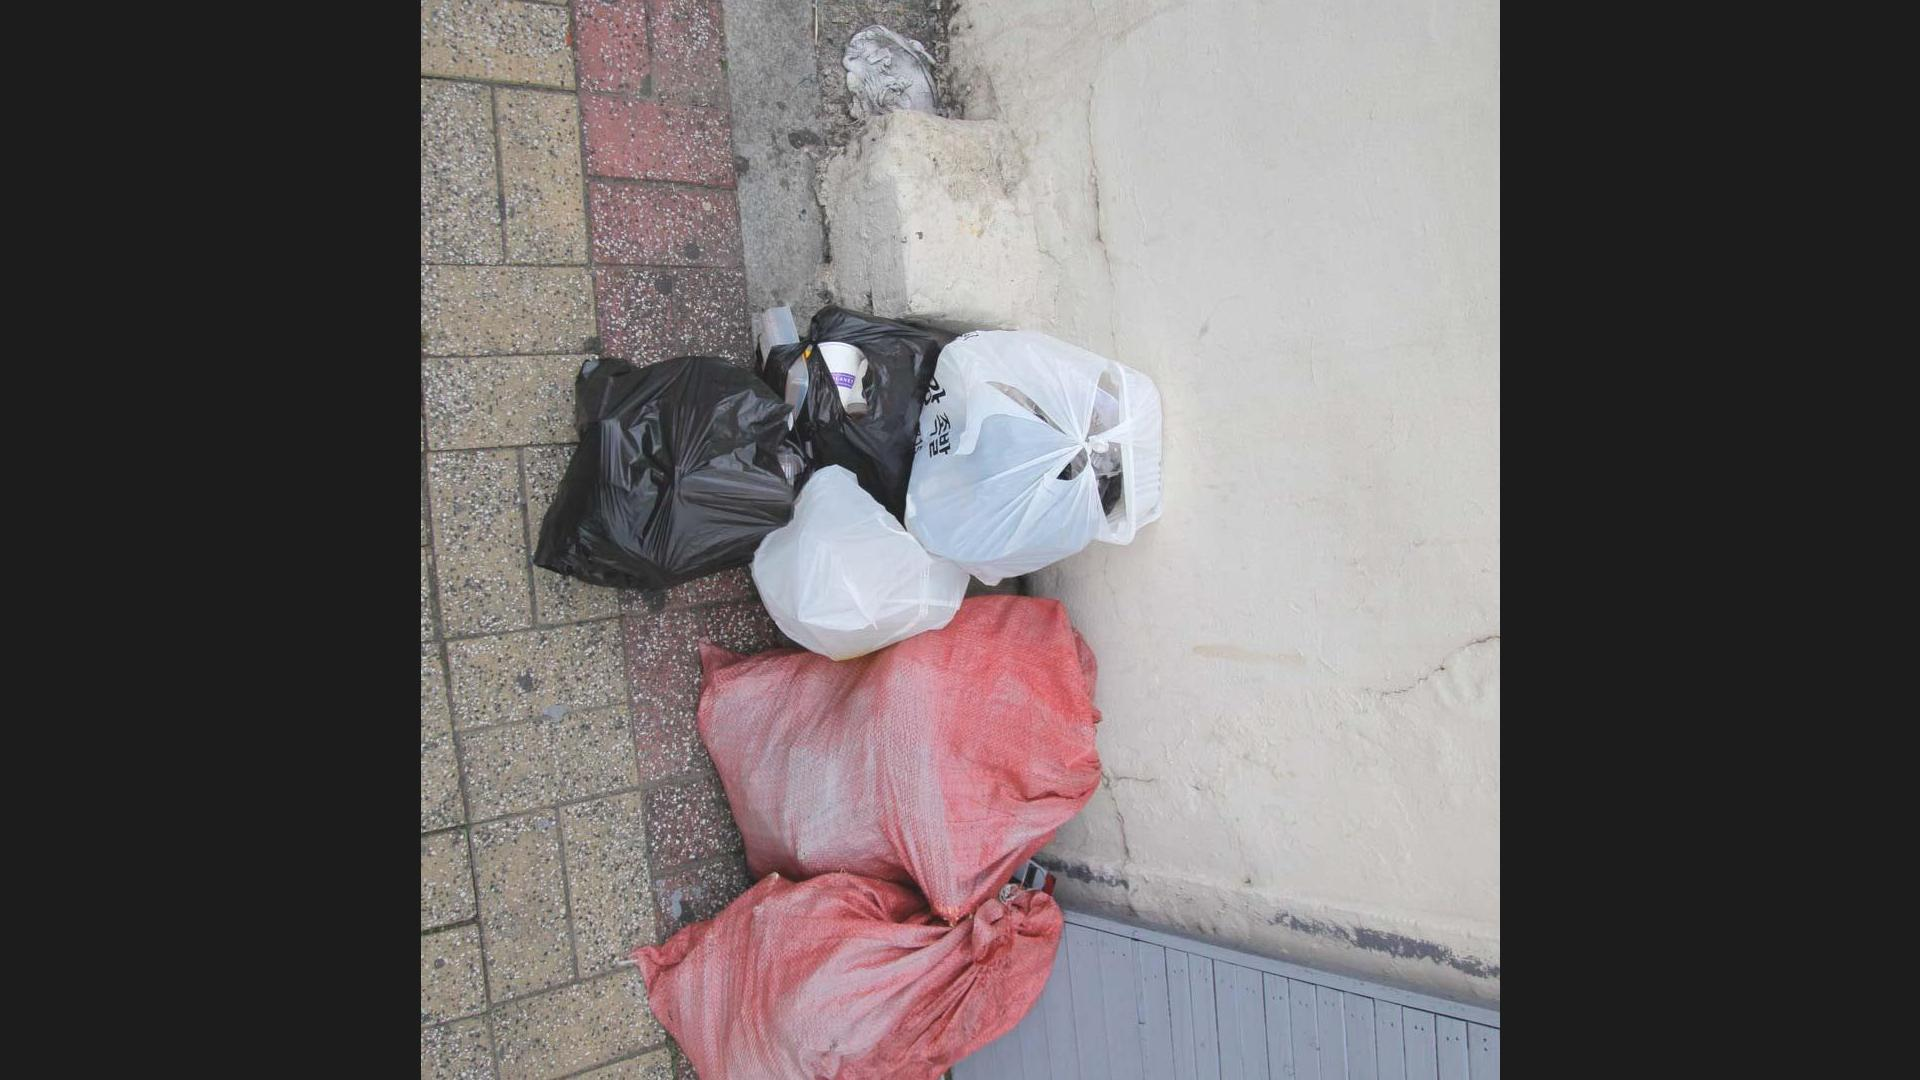black_bag: (517, 328, 804, 618)
white_bag: (905, 305, 1176, 592), (744, 455, 968, 671)
